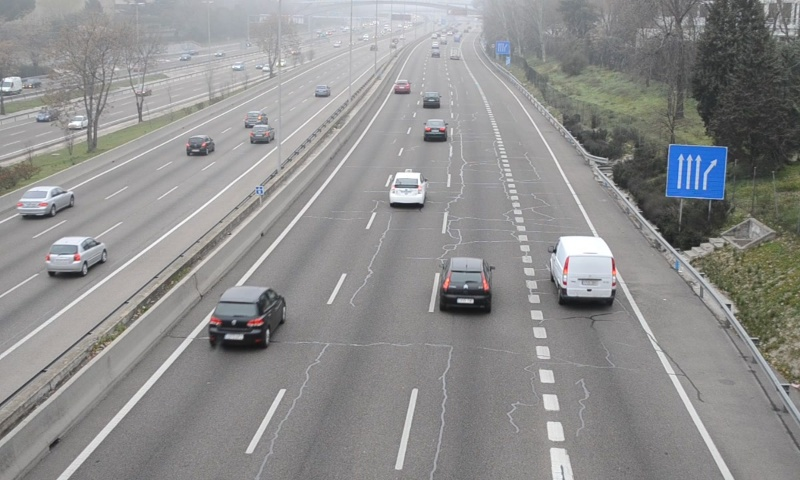car: (210, 286, 284, 343), (440, 257, 490, 310), (389, 172, 426, 205), (423, 118, 448, 142), (422, 89, 441, 110), (394, 78, 412, 94)
van: (552, 236, 616, 305)
